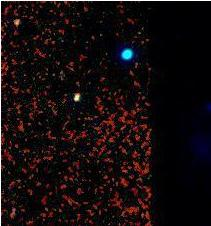star: (3, 2, 33, 32)
